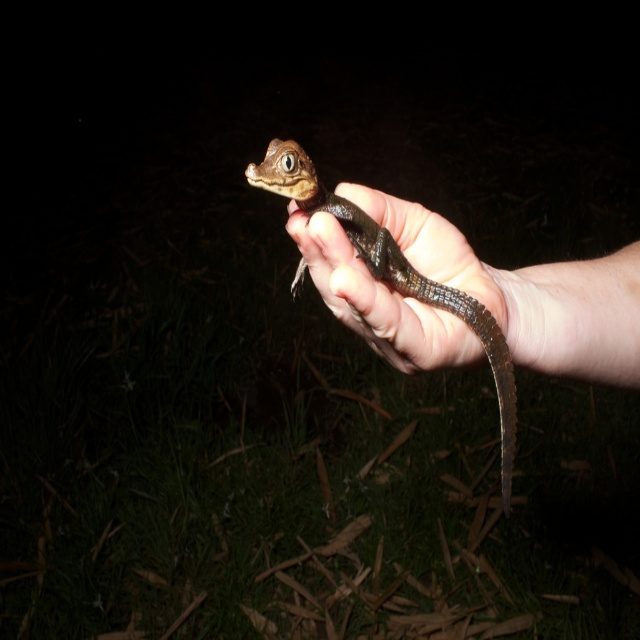Lizard: (266, 159, 542, 494)
